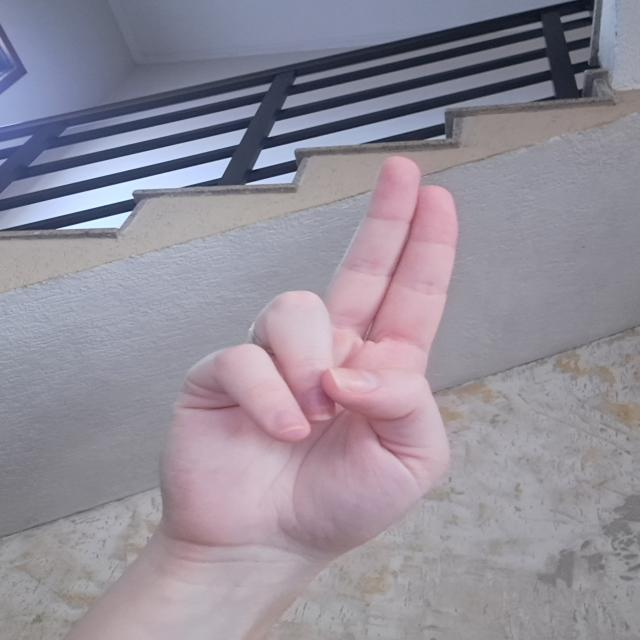U: (154, 157, 466, 557)
